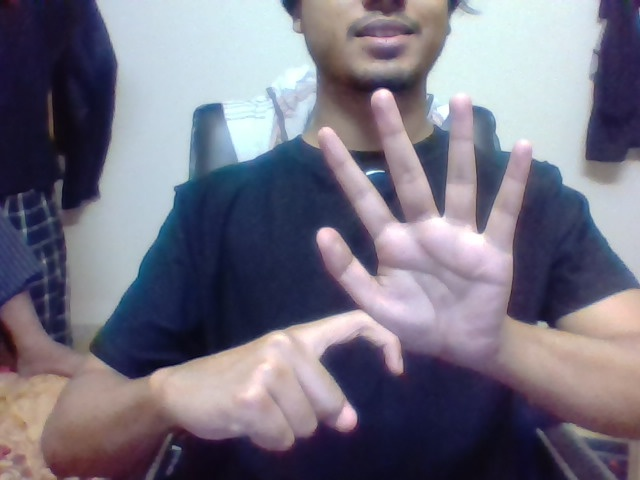R: (284, 304, 405, 437)
